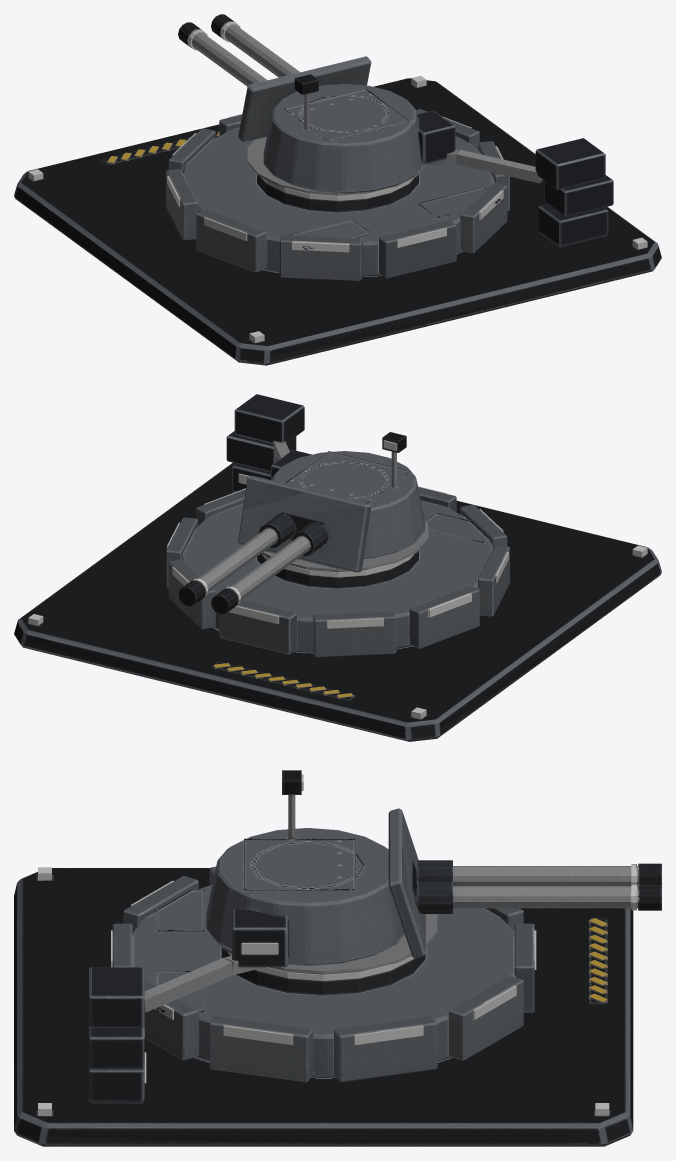
File: chs_spike.fbx
3 views of the same model, one above another, from view 1: azimuth 30°, elevation 25°; view 2: azimuth 150°, elevation 25°; view 3: azimuth 270°, elevation 25° (orthographic). The views are drawn at different scales.
Visible parts, largest first — view 1: base_bar, turret_bar, base_glow_running_bar, base_glow_power_bar; view 2: base_bar, turret_bar, base_glow_running_bar, base_glow_power_bar; view 3: base_bar, turret_bar, base_glow_running_bar, base_glow_power_bar, turret_glow_weapon_bar.
Part boxes in pixels (x1,y1,x2,y2): base_bar: [14, 78, 661, 365]; turret_bar: [178, 14, 455, 193]; base_glow_running_bar: [28, 75, 647, 342]; base_glow_power_bar: [262, 178, 413, 200]; base_bar: [14, 394, 661, 741]; turret_bar: [178, 432, 424, 614]; base_glow_running_bar: [28, 486, 647, 719]; base_glow_power_bar: [238, 473, 413, 576]; base_bar: [14, 866, 633, 1146]; turret_bar: [206, 770, 661, 967]; base_glow_running_bar: [38, 867, 609, 1115]; base_glow_power_bar: [144, 952, 414, 1083]; turret_glow_weapon_bar: [242, 864, 636, 954].
Size of the model in its own units: 1556 by 795 by 1628.
2 materials, 2 textured.
